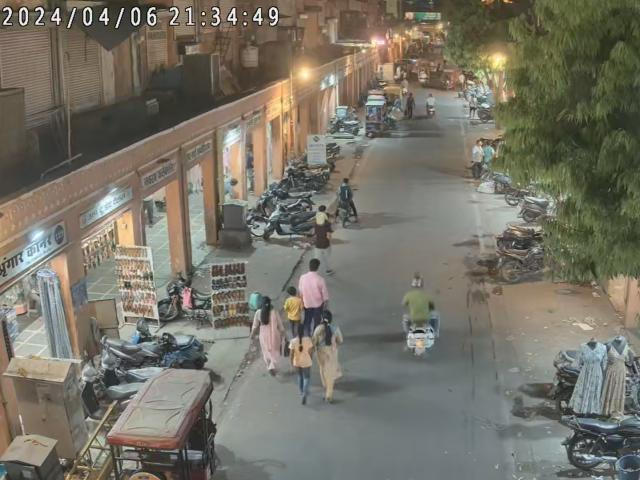auto: (74, 362, 220, 476), (362, 90, 388, 138)
motorbike: (560, 413, 640, 469)
motorbike-rider: (331, 178, 358, 228)
person: (248, 292, 292, 378), (312, 306, 340, 406), (290, 322, 314, 407), (470, 139, 494, 180)
scooty-rider: (402, 276, 442, 360)
